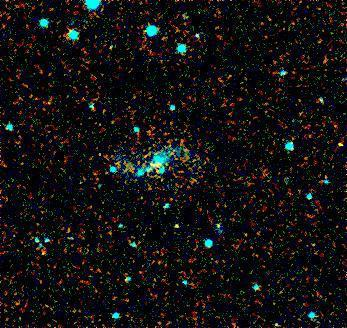star: (323, 132, 347, 162)
